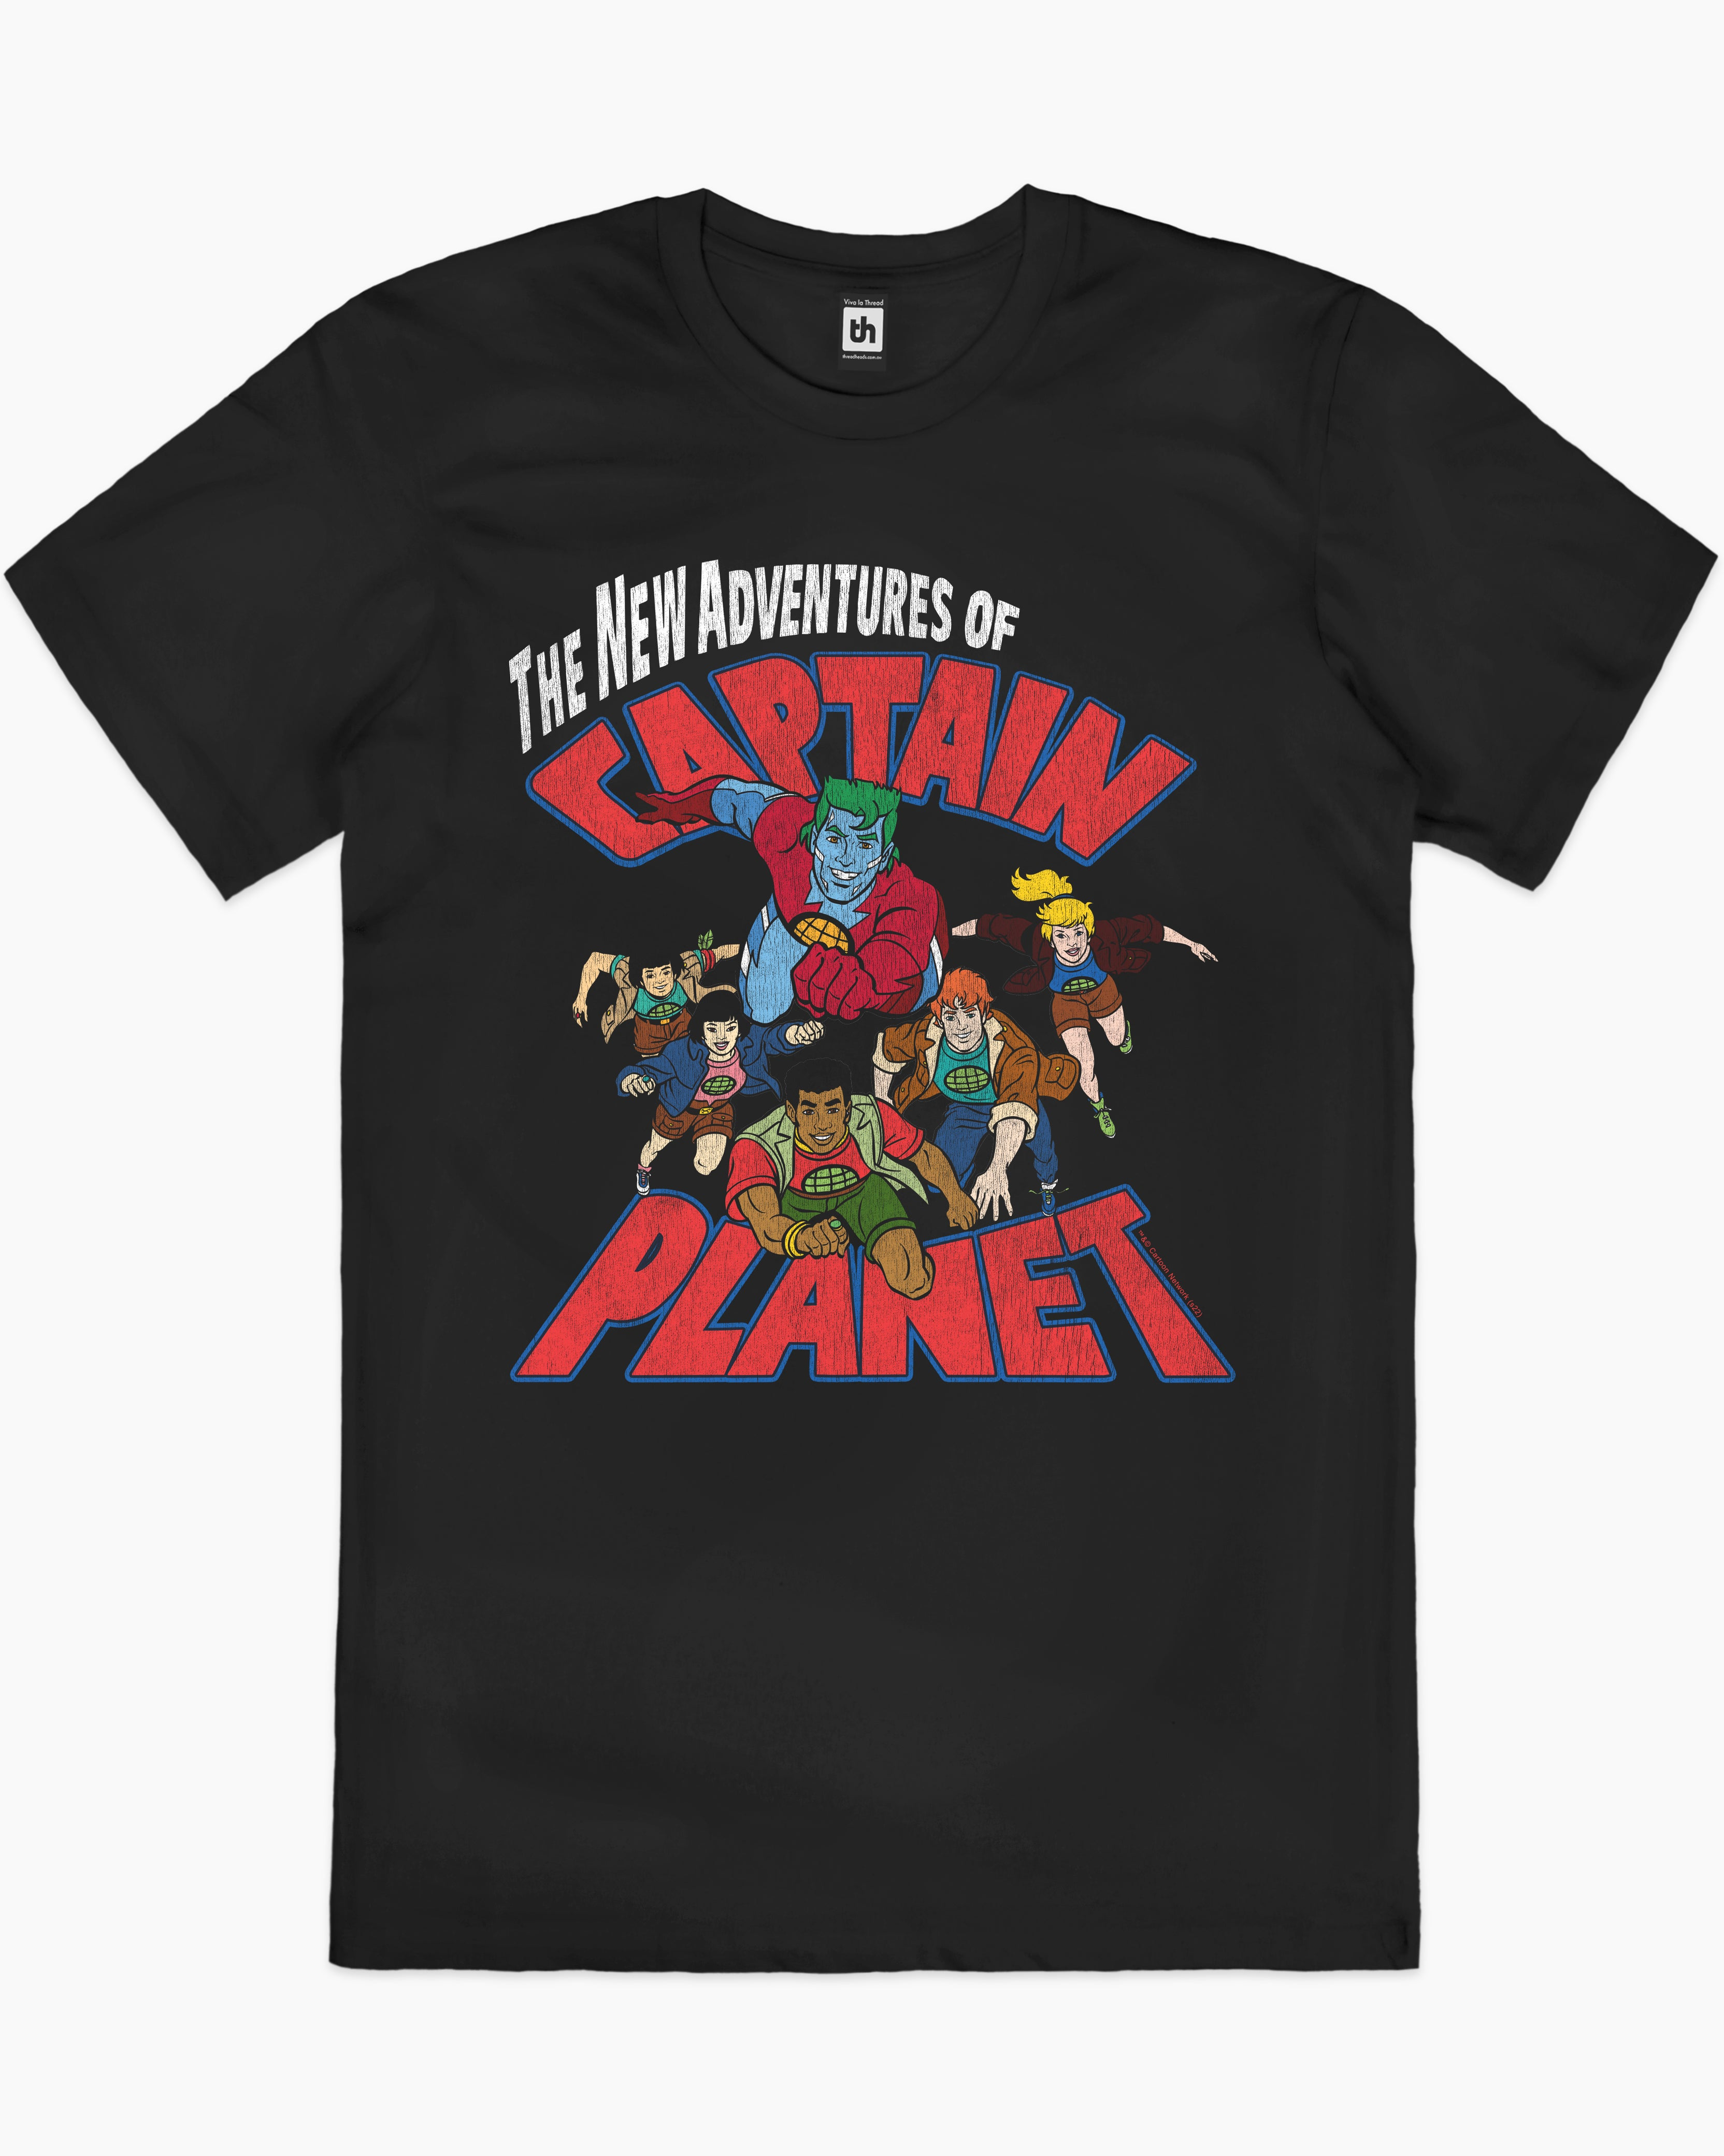design: (494, 547, 1247, 1396)
